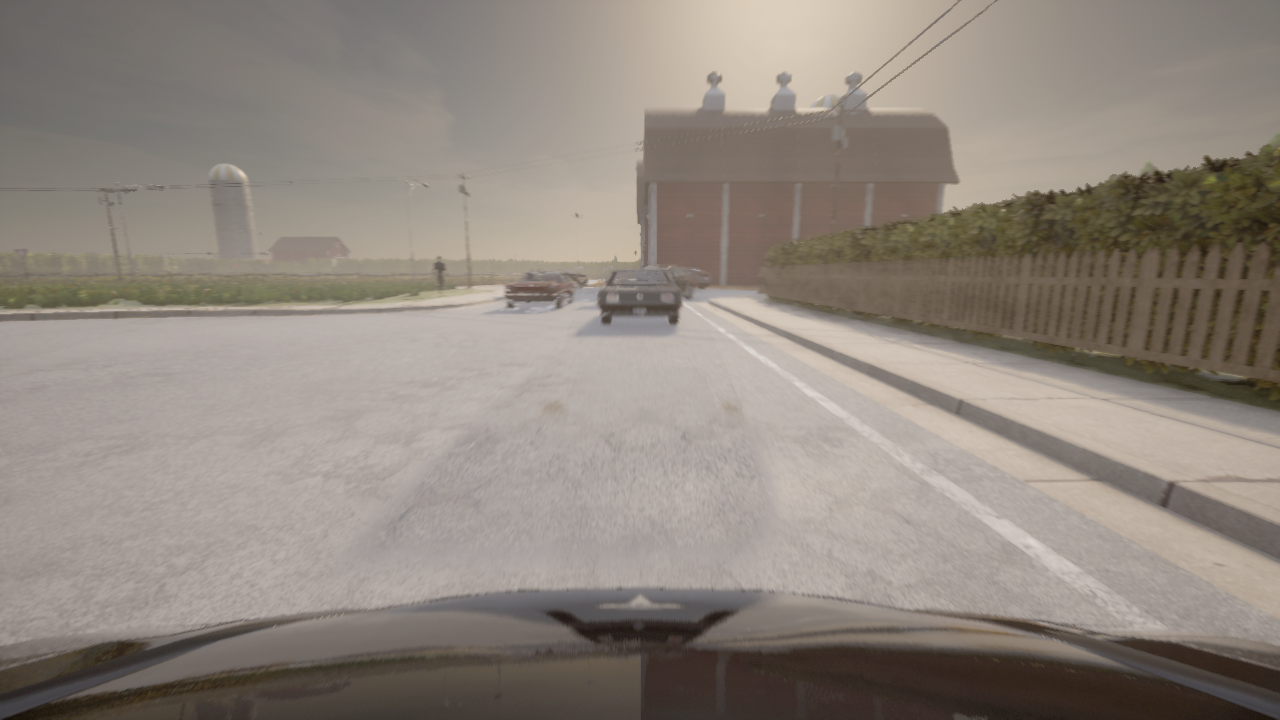cyclist: (0, 588, 1279, 719), (598, 269, 681, 323), (503, 271, 575, 308), (644, 265, 693, 298), (681, 268, 711, 290), (552, 269, 587, 287), (535, 267, 549, 270)
pedestrian: (432, 255, 447, 297)
